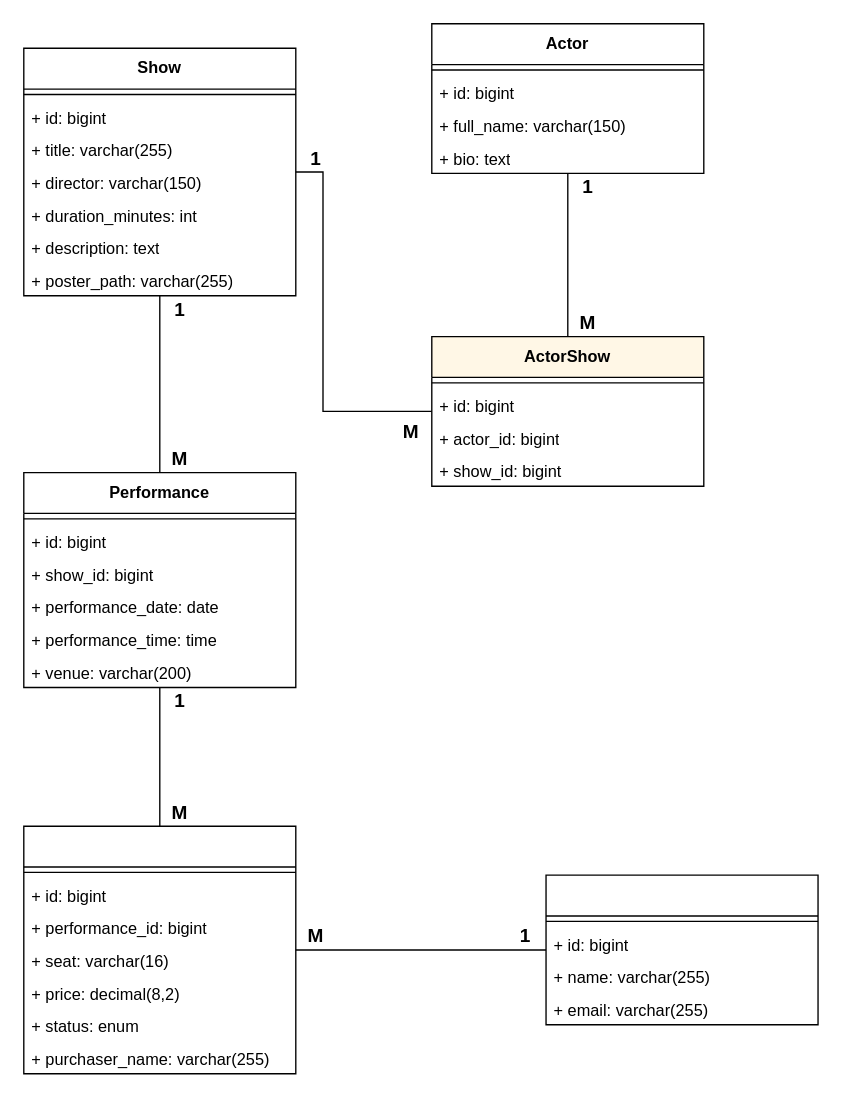
This 842x1102 diagram has some shape labels left out. Here are the shapes that lost their labels. From the top down, the box of each, then its label:
(22, 825, 296, 1074): Ticket
(545, 874, 818, 1025): User
